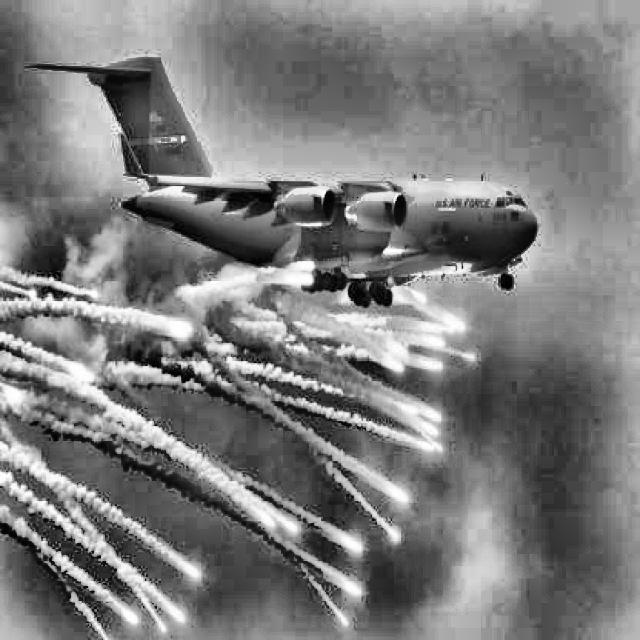C17: (26, 52, 539, 308)
